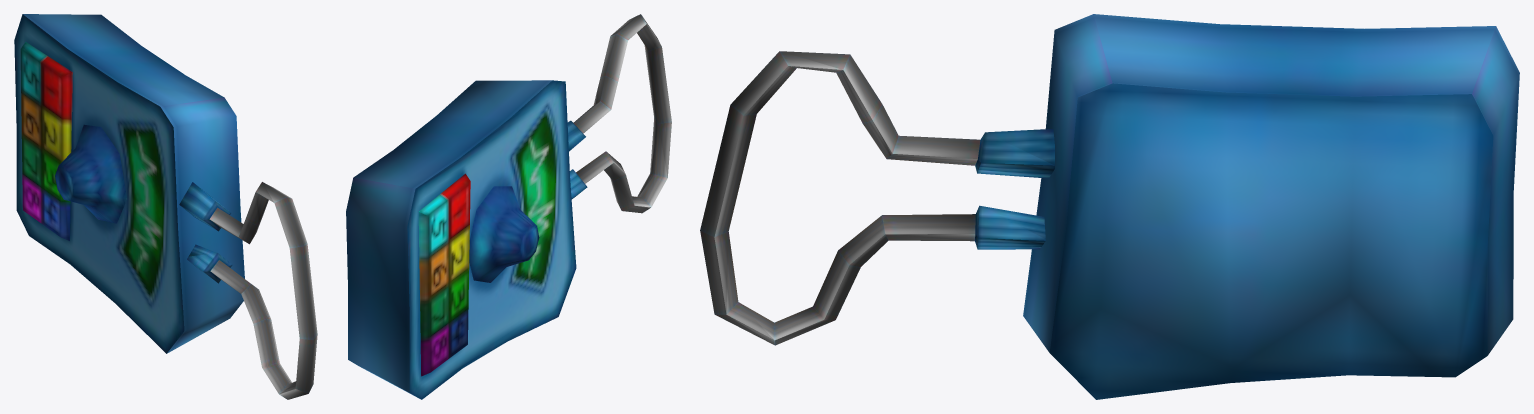
Rendered from silly_reader.glb.
3 renders of one model, left to right at view 1: azimuth 30°, elevation 25°; view 2: azimuth 150°, elevation 25°; view 3: azimuth 270°, elevation 25°, orthographic. The views are drawn at different scales.
Parts seen in each view (by area): view 1: sillyReader; view 2: sillyReader; view 3: sillyReader.
Part boxes in pixels (x1,y1,x2,y2): sillyReader: [14, 14, 317, 399]; sillyReader: [346, 14, 671, 399]; sillyReader: [700, 14, 1519, 399].
Size of the model in its own units: 0.3098 by 0.67 by 1.4.
Materials: 1 (1 with a texture image).
